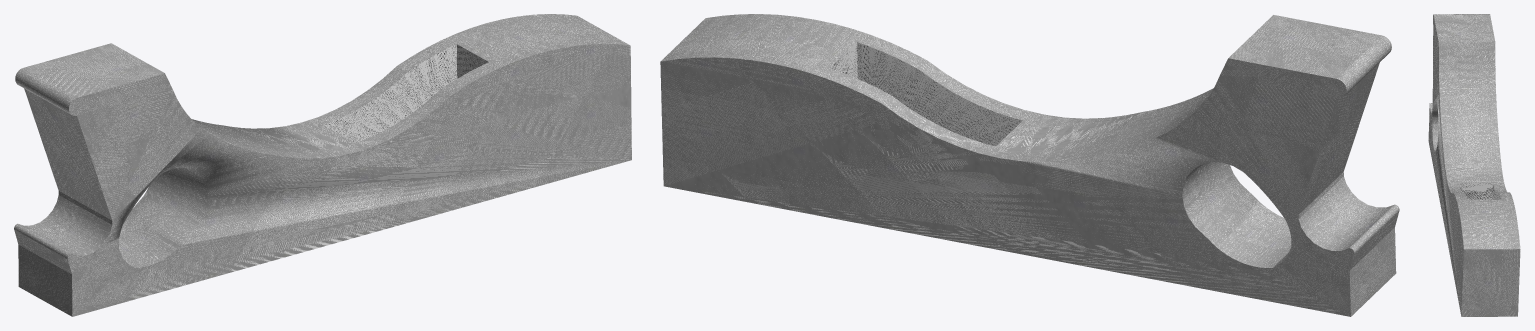
Rendered from original-20.obj.
3 renders of one model, left to right at view 1: azimuth 30°, elevation 25°; view 2: azimuth 150°, elevation 25°; view 3: azimuth 270°, elevation 25°, orthographic. The views are drawn at different scales.
Visible parts, largest first — view 1: Group19/mesh32/mesh32-geometry#mesh32-geometry; view 2: Group19/mesh32/mesh32-geometry#mesh32-geometry; view 3: Group19/mesh32/mesh32-geometry#mesh32-geometry.
Part boxes in pixels (<box>): Group19/mesh32/mesh32-geometry#mesh32-geometry: <box>14,14,631,316</box>; Group19/mesh32/mesh32-geometry#mesh32-geometry: <box>660,14,1399,316</box>; Group19/mesh32/mesh32-geometry#mesh32-geometry: <box>1428,14,1520,316</box>.
Bounding box in the file's own units: 0.5228 × 0.1863 × 0.1158.
